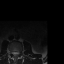CCS_normal: (14, 50, 16, 57)
LFS_normal: (18, 50, 20, 55)
LLS_normal: (16, 50, 18, 56)
RFS_normal: (10, 50, 12, 55)
RLS_normal: (12, 50, 14, 56)
